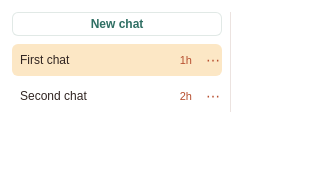
Test: ChatHistory › exposes Rename and Delete only through a per-row options menu
expect the button "Rename" is not shown: met
expect the button "Delete" is not shown: met
Step 1. Click the button named "Options for First chat" → click(211, 60), box [200,49,222,71]
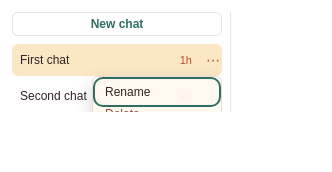
expect the menu is shown: met, box [92,76,222,112]
expect the menu item "Rename" is shown: met, box [97,81,217,103]
